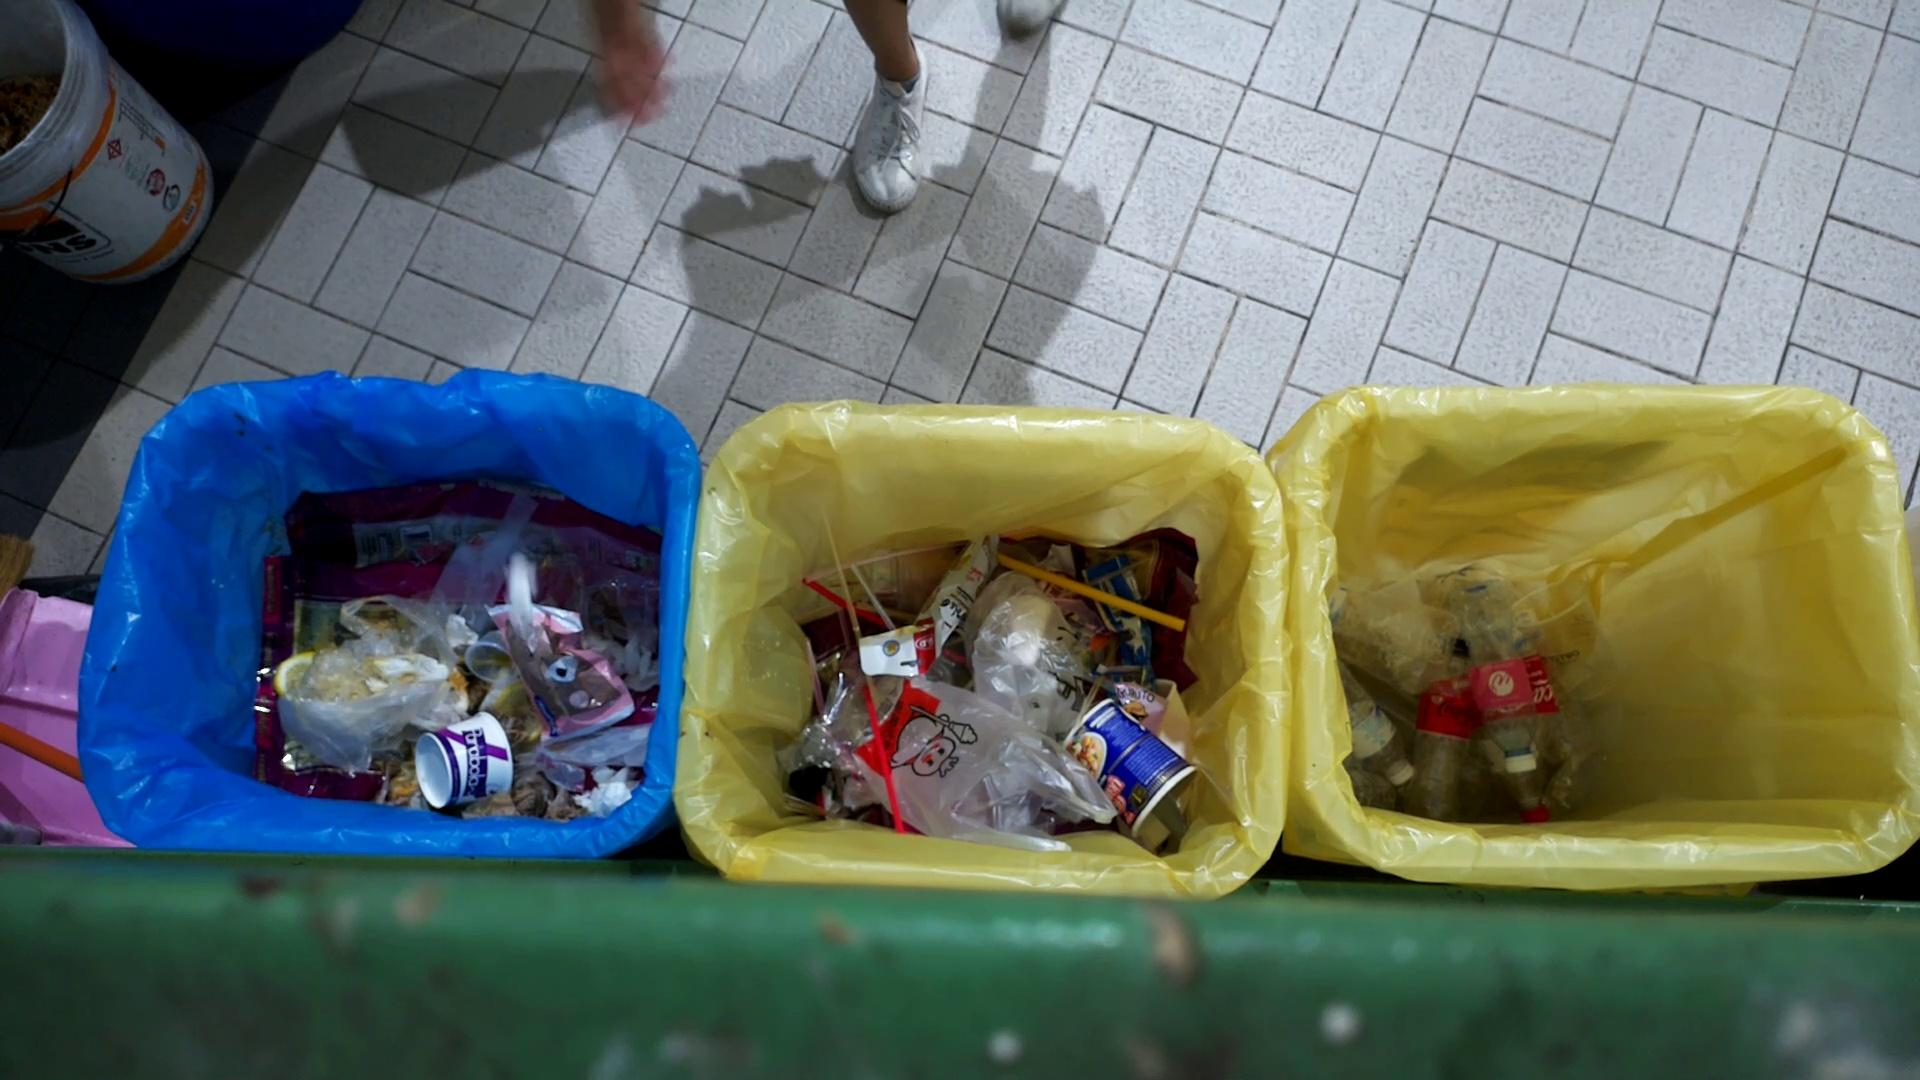filled plastic bag: (268, 582, 473, 770), (961, 571, 1087, 736)
food container: (1058, 696, 1203, 841), (410, 707, 518, 812), (459, 626, 525, 687)
plastic bag: (839, 667, 1118, 851)
plastic bottle: (1447, 578, 1542, 777), (1408, 629, 1482, 818), (1320, 582, 1465, 667), (1335, 655, 1420, 787)
plastic cup: (1505, 572, 1629, 704)
snack packaging: (471, 592, 657, 745), (856, 531, 1004, 680)
straw: (994, 551, 1193, 636), (823, 518, 882, 712), (861, 684, 909, 836), (812, 541, 968, 580), (800, 574, 885, 629), (847, 560, 898, 636), (1085, 555, 1155, 585), (853, 600, 916, 620)
tissue paper: (488, 546, 559, 640), (588, 628, 662, 695), (572, 760, 640, 818)
